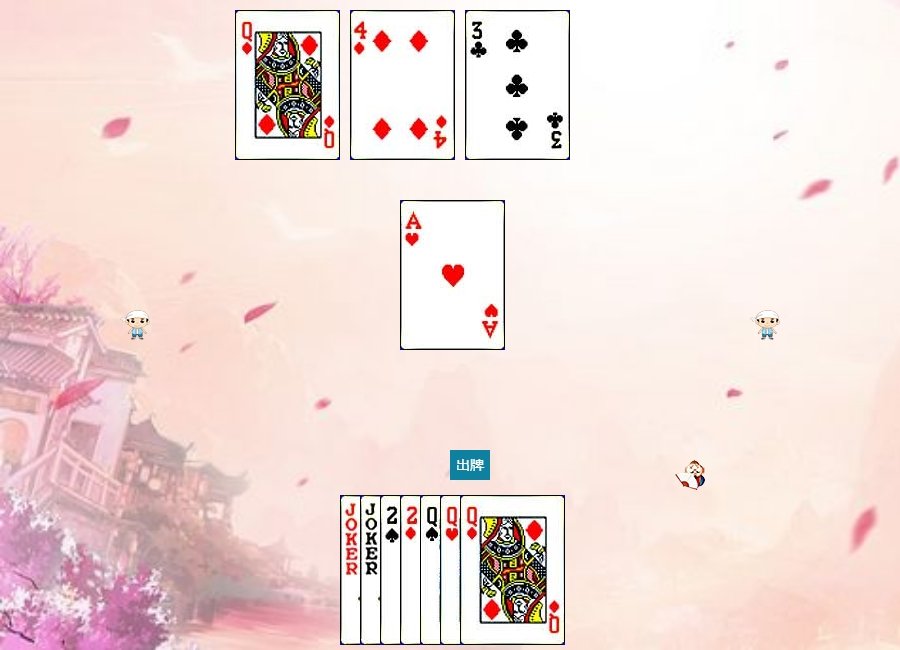12~1: (235, 10, 340, 160), (460, 495, 565, 645)
12~3: (440, 495, 545, 645)
12~4: (420, 495, 525, 645)
14~3: (400, 200, 505, 350)
15~1: (400, 495, 505, 645)
15~4: (380, 495, 485, 645)
17~3: (360, 495, 465, 645)
18~4: (340, 495, 445, 645)
3~2: (465, 10, 570, 160)
4~1: (350, 10, 455, 160)
